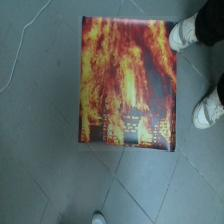fire-poster: (78, 17, 177, 151)
